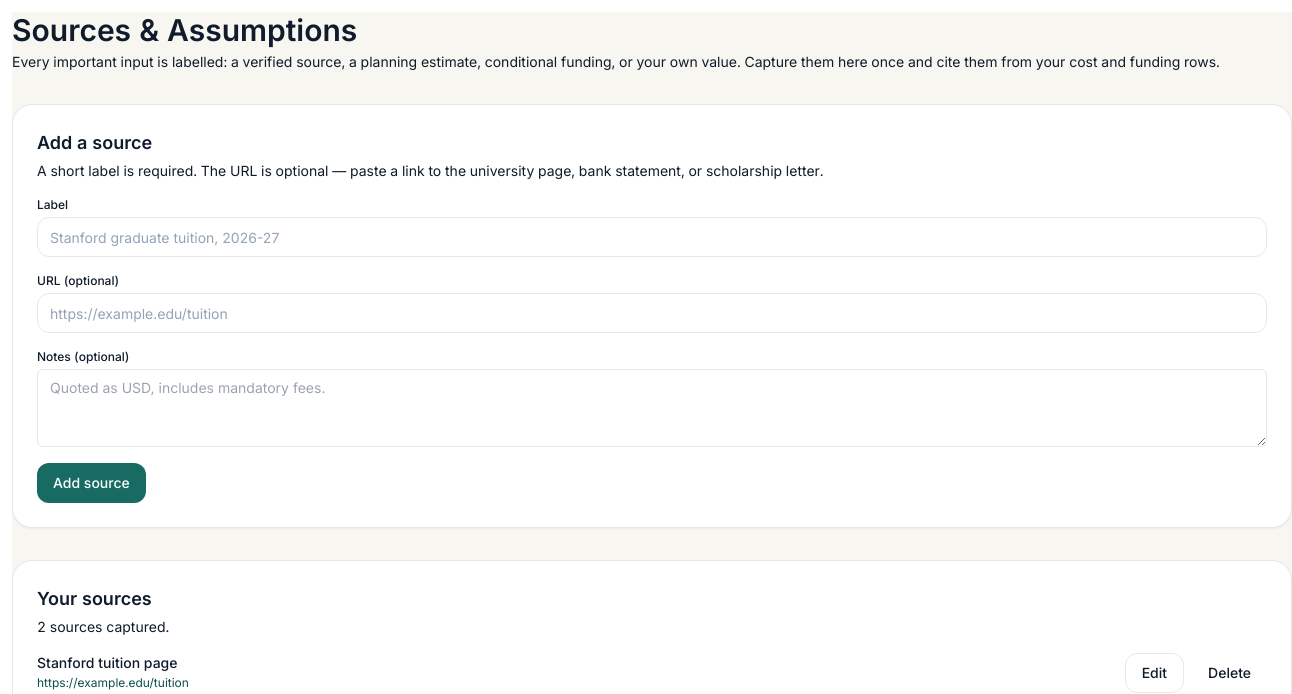
Test: SourcesWorkspace › creates a new source through the form
Expected: the text "Stanford tuition page" is shown, [37,654,178,671]
Type "Scholarship award letter" into the field labelled "Label" at (652, 237), box [37,217,1267,257]
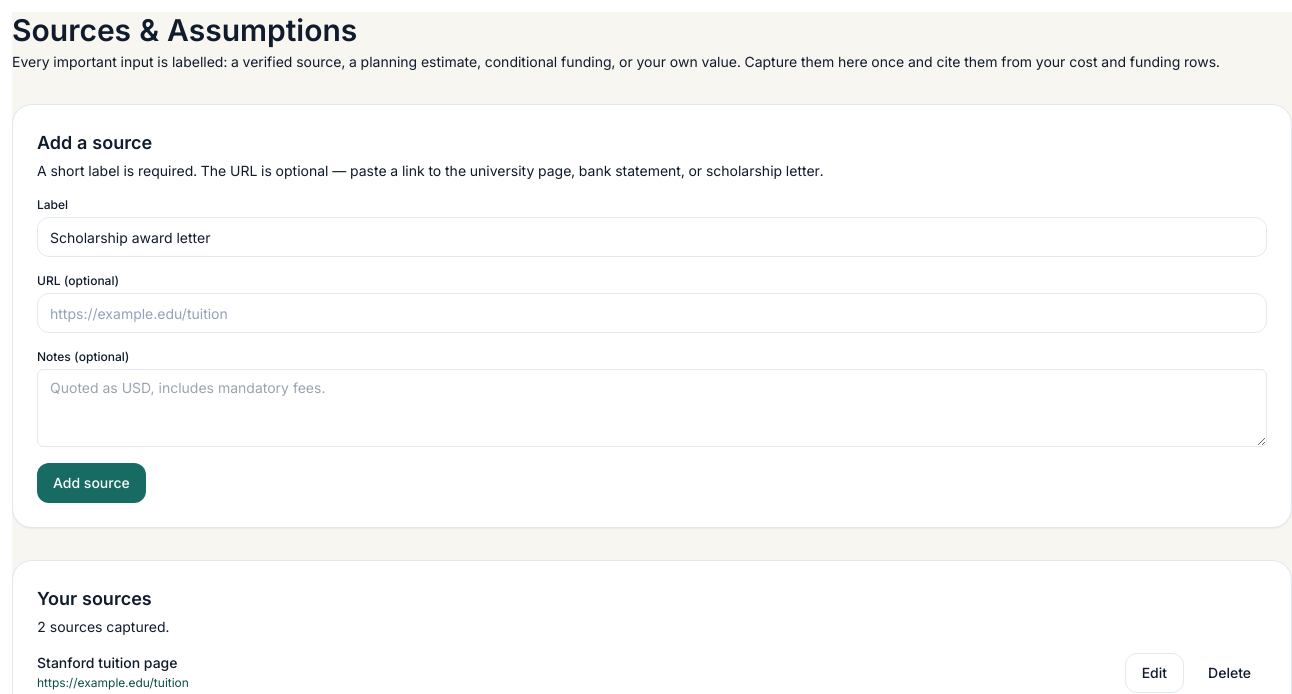
Type "https://example.com/award" into the field labelled "URL (optional)" at (652, 313), box [37,293,1267,333]
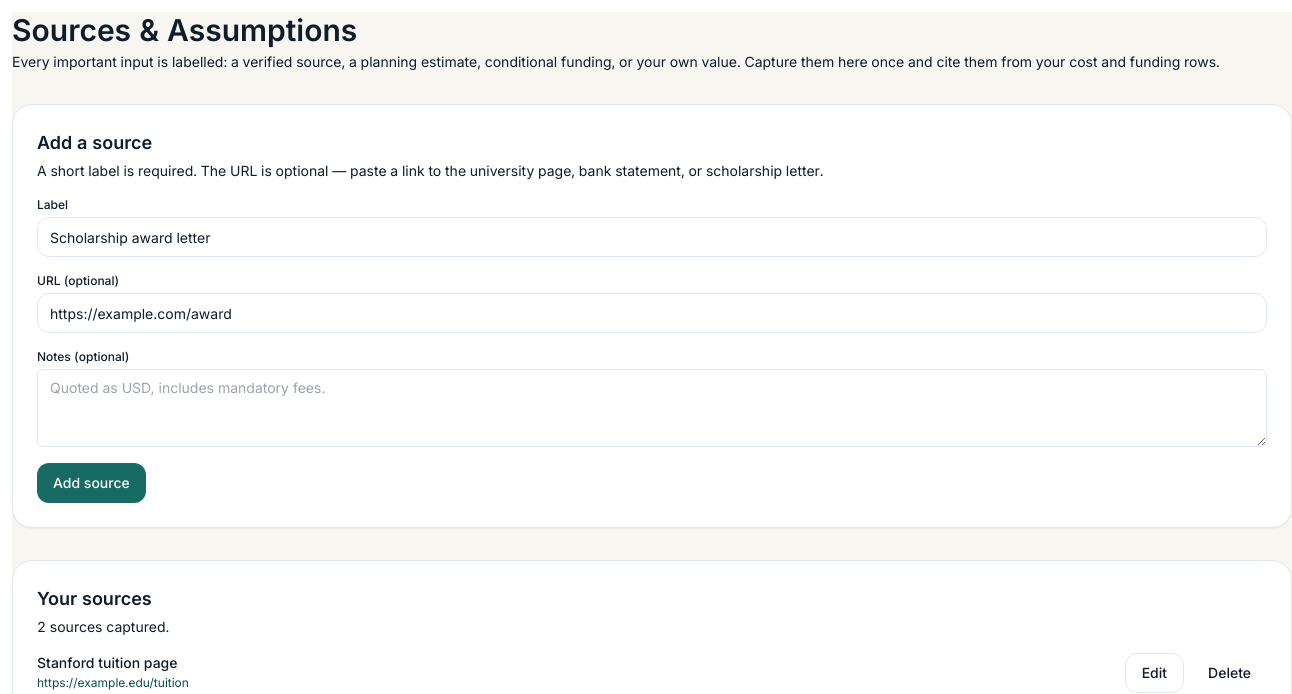
Type "Covers 50% of tuition." into the text box labelled "Notes (optional)" at (652, 408), box [37,369,1267,447]
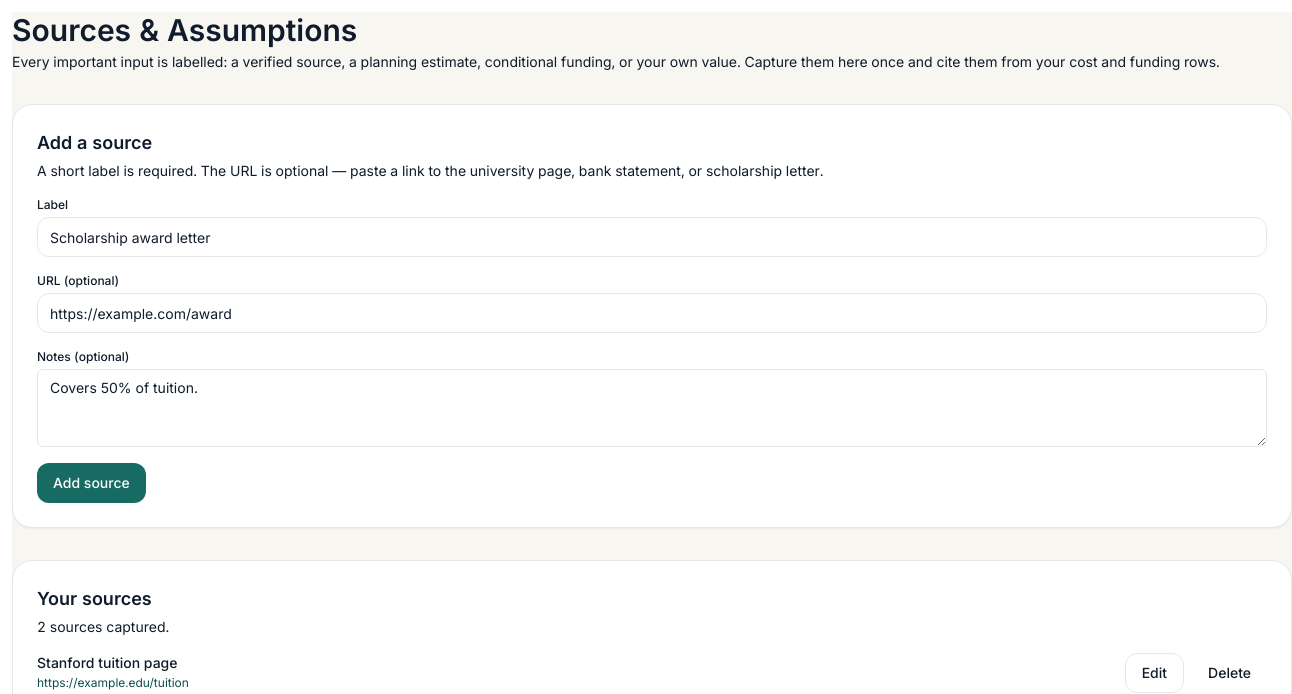
Click the button "Add source" at (91, 483), box [37,463,146,503]
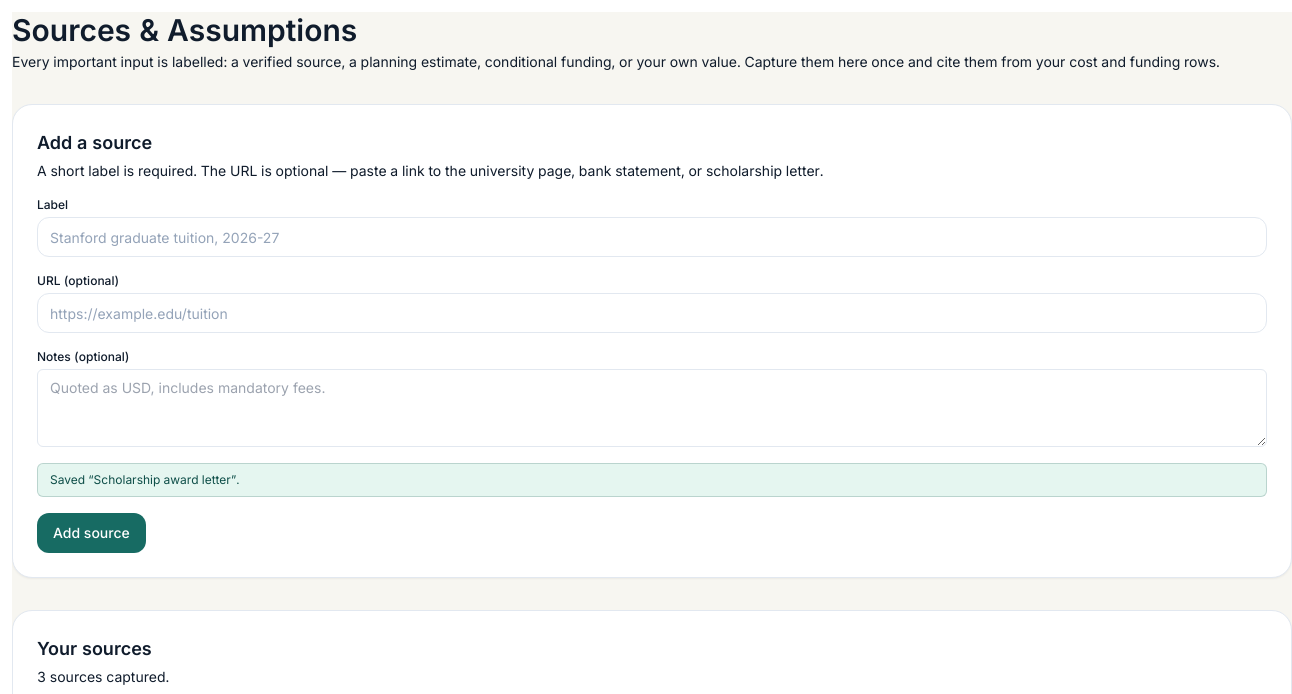
Now the text "Saved “Scholarship award letter”." is shown, box [37,463,1267,497]
